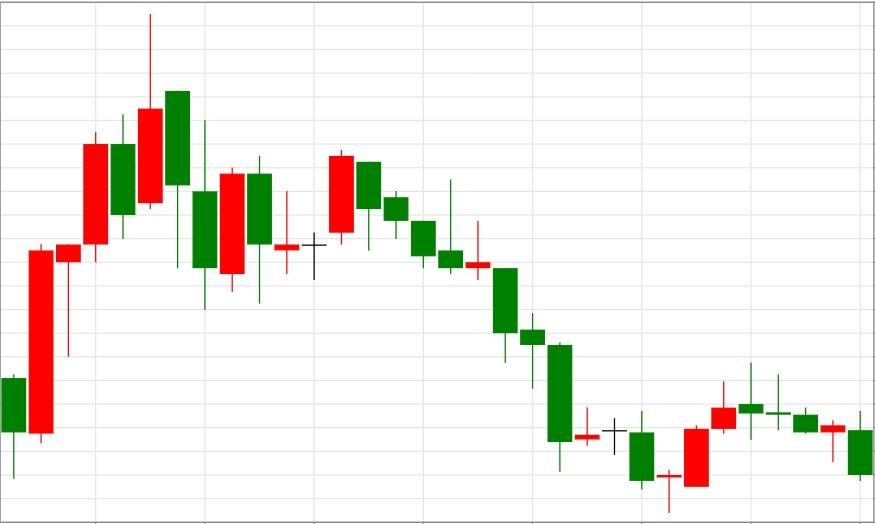morning_star_rise: (328, 149, 710, 513)
